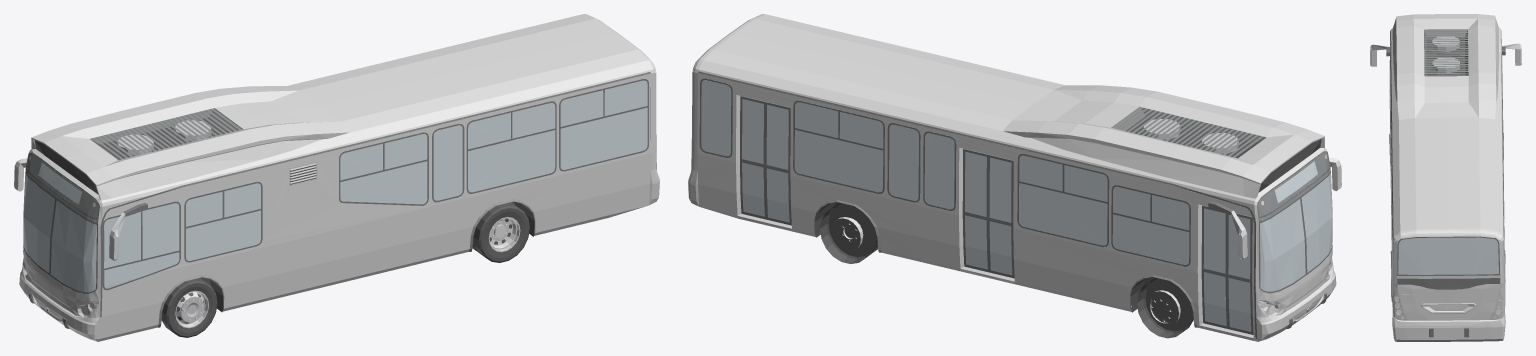
Rendered from bus.glb.
3 renders of one model, left to right at view 1: azimuth 30°, elevation 25°; view 2: azimuth 150°, elevation 25°; view 3: azimuth 270°, elevation 25°, orthographic. The views are drawn at different scales.
Visible parts, largest first — view 1: Interior-butaca-2_001; view 2: Interior-butaca-2_001; view 3: Interior-butaca-2_001.
Part boxes in pixels (<box>): Interior-butaca-2_001: <box>14,14,659,341</box>; Interior-butaca-2_001: <box>688,14,1341,341</box>; Interior-butaca-2_001: <box>1370,14,1521,341</box>.
Size of the model in its own units: 6.69 by 1.99 by 1.97.
2 materials, 2 textured.
